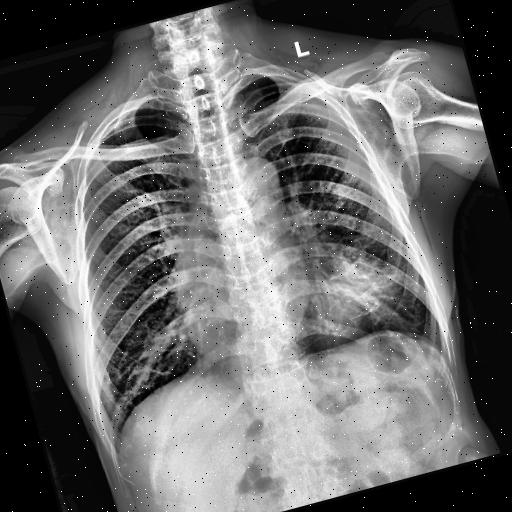0- Aortic enlargement: (166, 152, 292, 256), (224, 150, 288, 222), (224, 150, 288, 220)
3- Cardiomegaly: (174, 262, 368, 382)
7- Lung Opacity: (299, 226, 410, 344), (302, 238, 404, 334), (316, 241, 404, 325)
8- Nodule-Mass: (302, 238, 404, 334), (316, 241, 404, 325)
